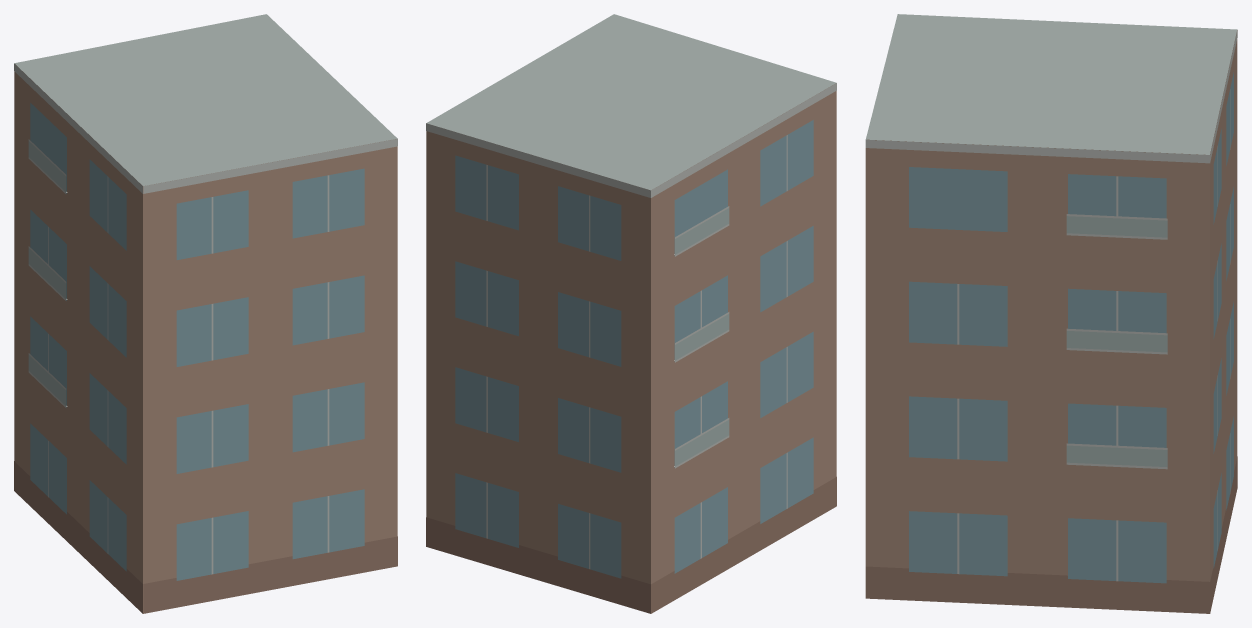
Rendered from survey-upis-32811169.glb.
3 views of the same model, side by side, from view 1: azimuth 30°, elevation 25°; view 2: azimuth 150°, elevation 25°; view 3: azimuth 270°, elevation 25° (orthographic). The views are drawn at different scales.
Parts seen in each view (by area): view 1: survey-upis-32811169.tmp; view 2: survey-upis-32811169.tmp; view 3: survey-upis-32811169.tmp.
Part boxes in pixels (x1=…): survey-upis-32811169.tmp: x1=14, y1=14, x2=397, y2=613; survey-upis-32811169.tmp: x1=426, y1=14, x2=836, y2=613; survey-upis-32811169.tmp: x1=865, y1=14, x2=1237, y2=613.
Size of the model in its own units: 8.8 by 13.35 by 9.81.
